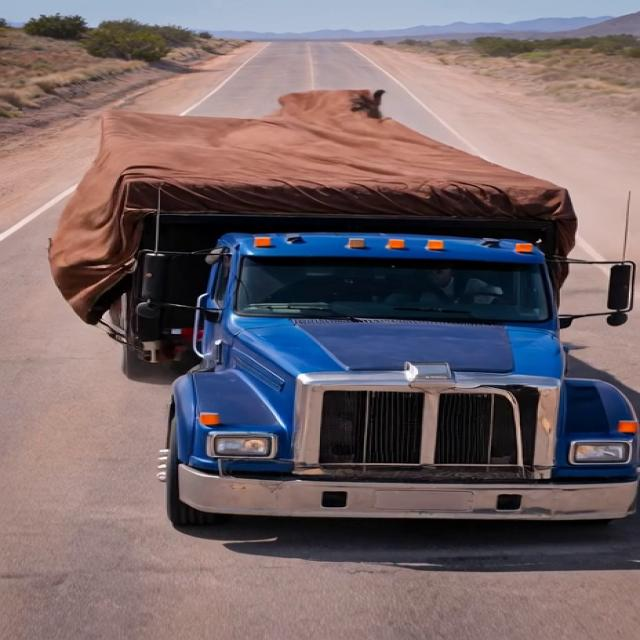Box: (101, 101, 584, 229)
Truck: (49, 82, 640, 534)
